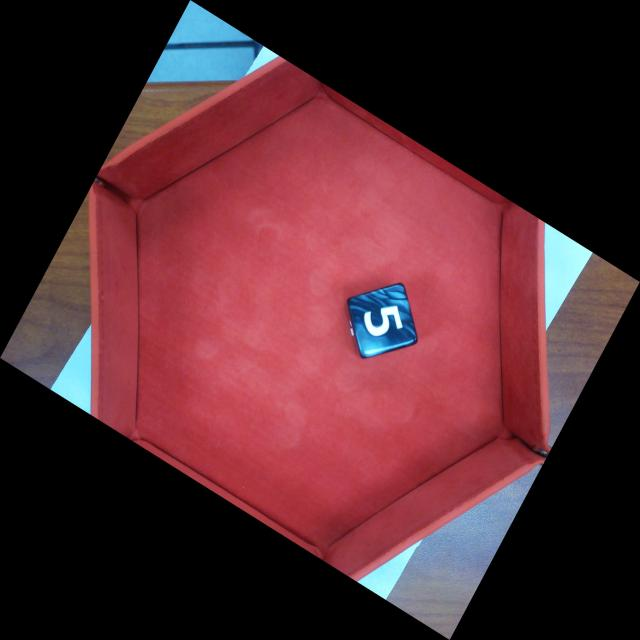dice: (347, 282, 419, 360)
